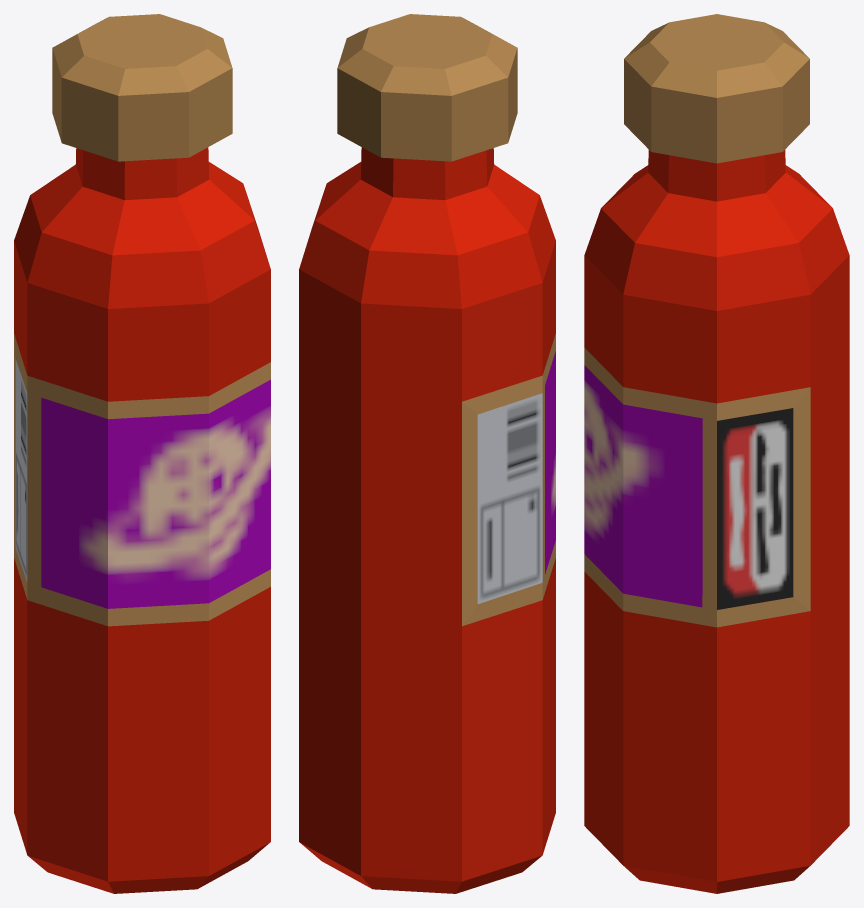
File: SM_Prop_Drink_Syncola_01.fbx
3 views of the same model, side by side, from view 1: azimuth 30°, elevation 25°; view 2: azimuth 150°, elevation 25°; view 3: azimuth 270°, elevation 25° (orthographic).
Visible parts, largest first — view 1: SM_Prop_Drink_Syncola_01; view 2: SM_Prop_Drink_Syncola_01; view 3: SM_Prop_Drink_Syncola_01.
Boxes of the visible parts, x1=… form: SM_Prop_Drink_Syncola_01: x1=14, y1=14, x2=270, y2=893; SM_Prop_Drink_Syncola_01: x1=299, y1=14, x2=555, y2=893; SM_Prop_Drink_Syncola_01: x1=584, y1=14, x2=849, y2=893.
Bounding box in the file's own units: 12.32 × 41.3 × 12.32.
